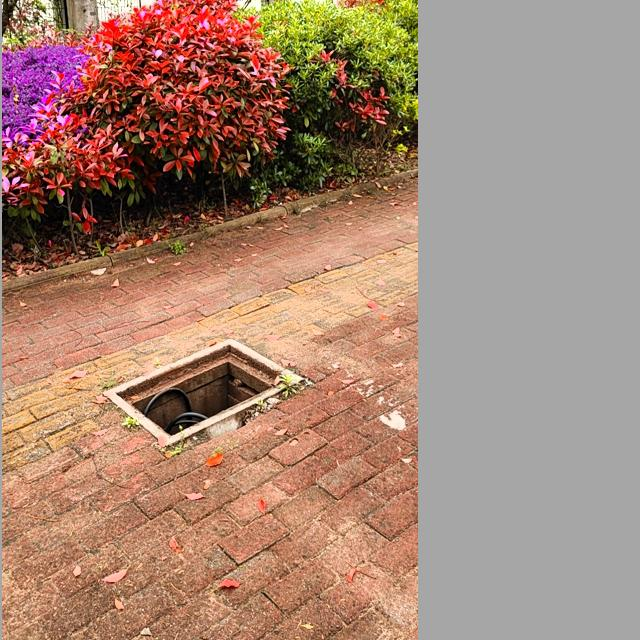lose: (97, 329, 315, 461)
